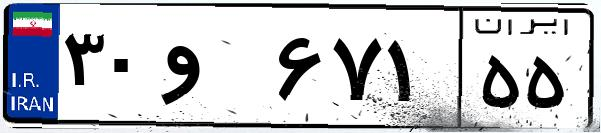0: (110, 28, 158, 98)
1: (385, 28, 445, 110)
3: (57, 26, 110, 100)
5: (475, 38, 525, 113), (525, 38, 570, 115)
6: (270, 28, 330, 110)
7: (330, 28, 385, 110)
و: (158, 20, 270, 120)
